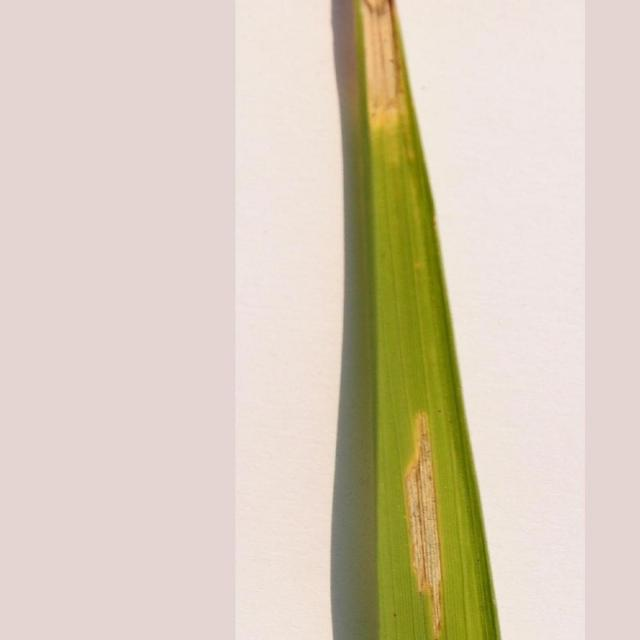leaf blight: (323, 1, 439, 158), (396, 412, 464, 635)
